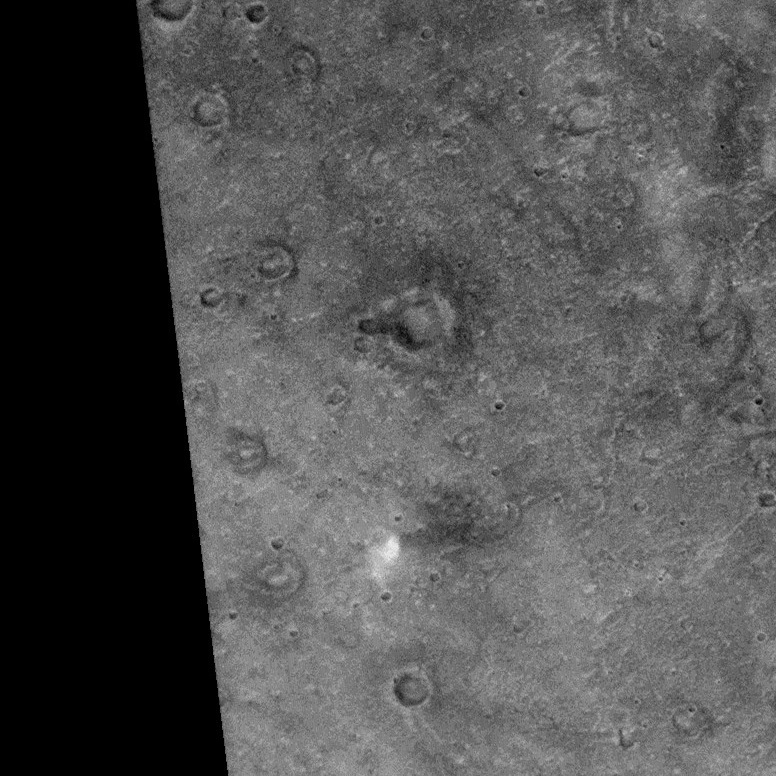dust_devil: (374, 524, 472, 564)
